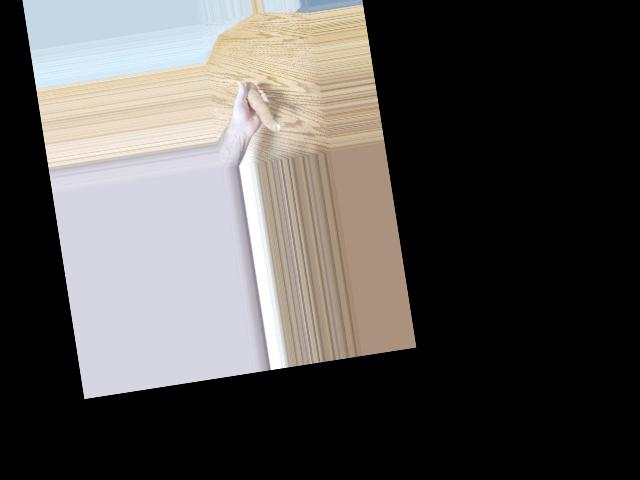sweet_potato: (244, 80, 281, 137)
